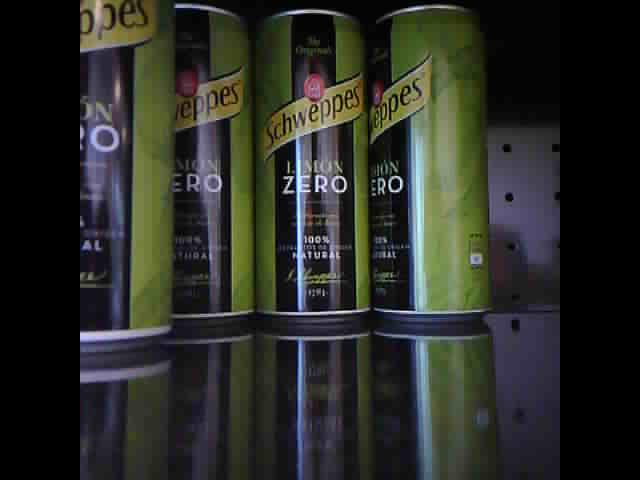schweppes: (372, 4, 494, 323), (258, 4, 369, 326), (79, 4, 174, 358), (169, 6, 253, 330)
